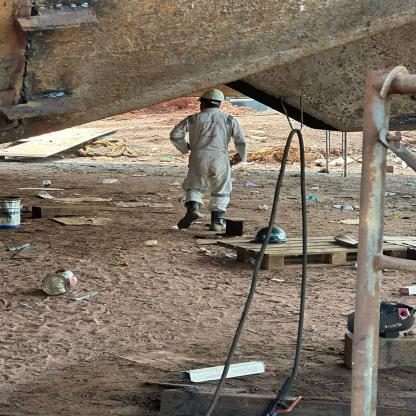bota: (177, 201, 199, 232), (207, 210, 228, 230)
